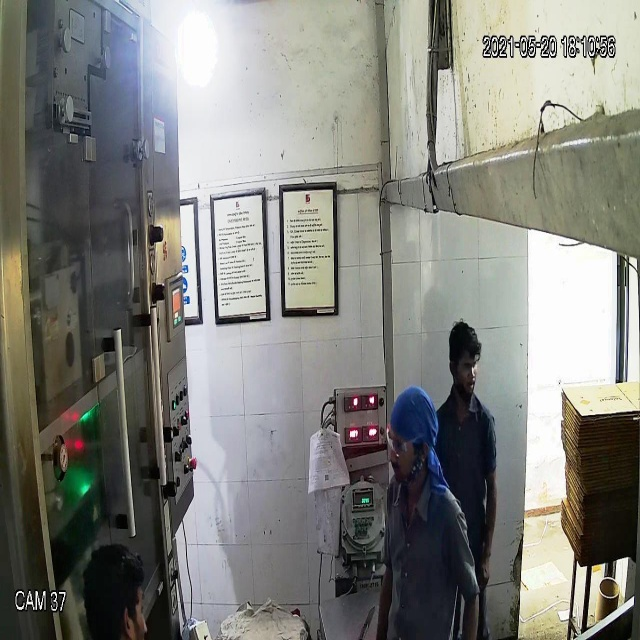Gafas: (382, 423, 430, 460)
Sin_gafas: (443, 356, 483, 382)
